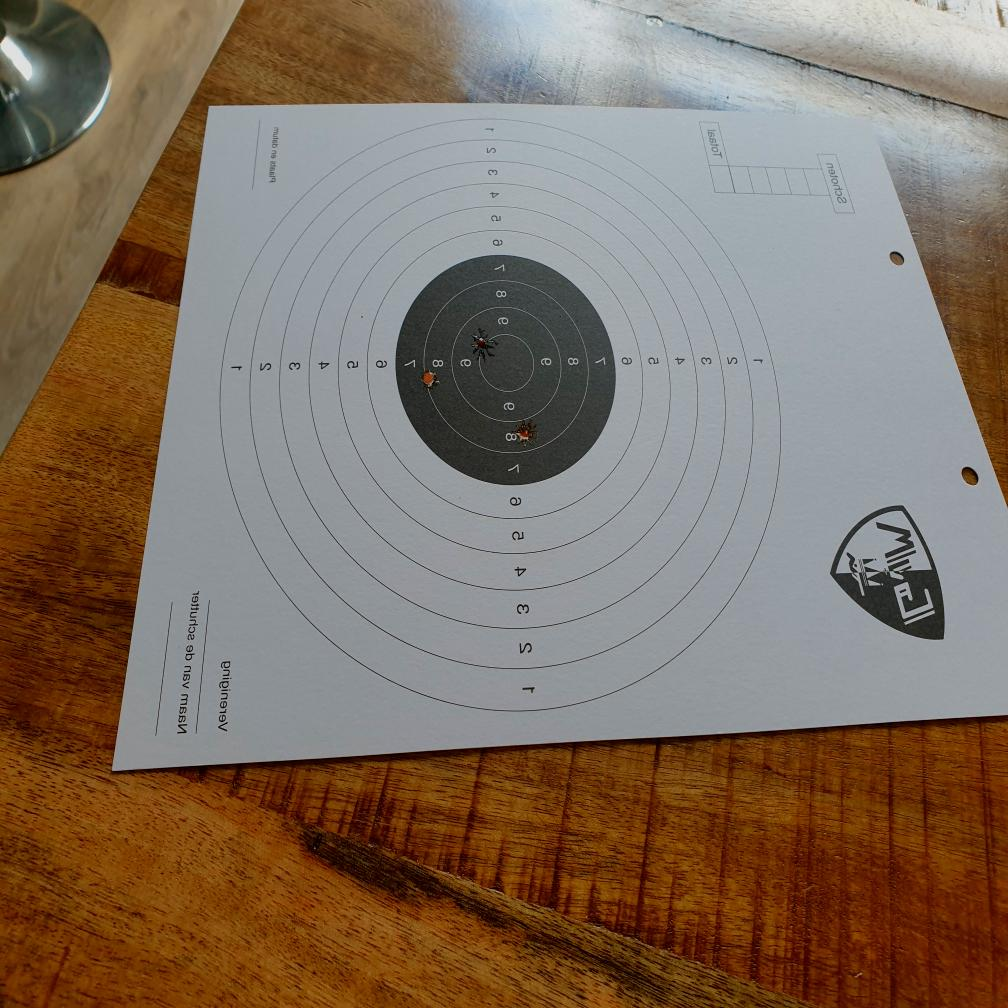10: (470, 328, 499, 360)
8: (421, 369, 441, 390)
9: (513, 419, 538, 446)
Target: (218, 112, 784, 713)
black_contour: (395, 254, 616, 485)
